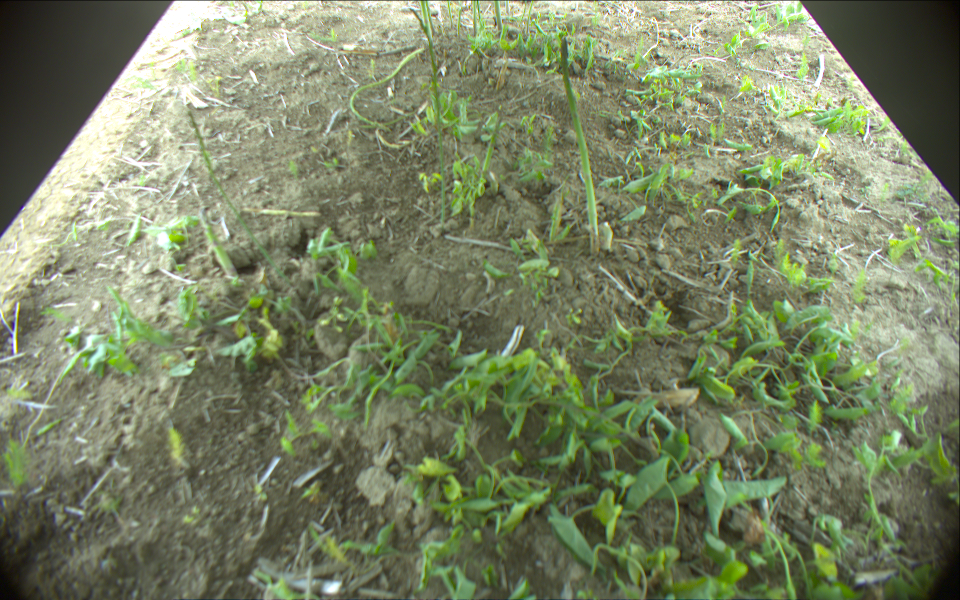aspa: (188, 111, 301, 300), (408, 8, 446, 224), (562, 39, 600, 254), (349, 48, 423, 133), (199, 209, 239, 282), (477, 113, 502, 190), (525, 1, 535, 33), (425, 1, 433, 36), (494, 1, 502, 31), (457, 5, 465, 34), (420, 1, 428, 29), (476, 1, 483, 32), (446, 1, 454, 27), (473, 1, 478, 38), (437, 18, 442, 34)
